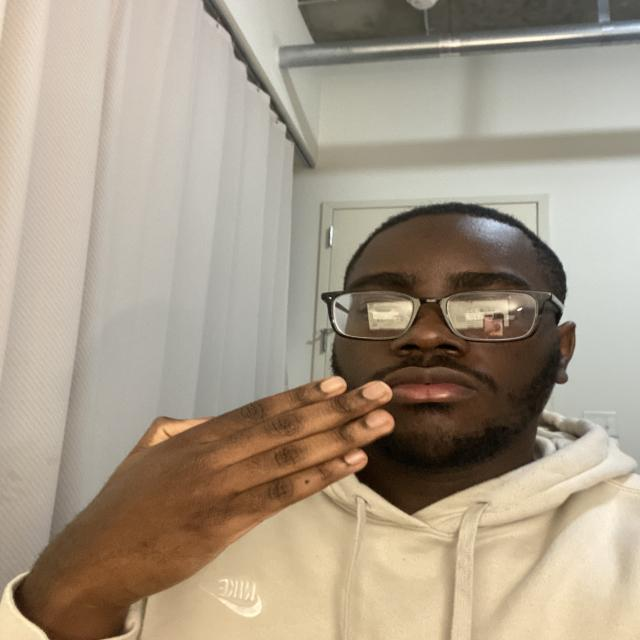Thank you: (105, 354, 422, 576)
